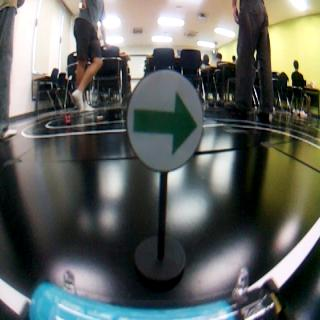right: (126, 70, 204, 171)
